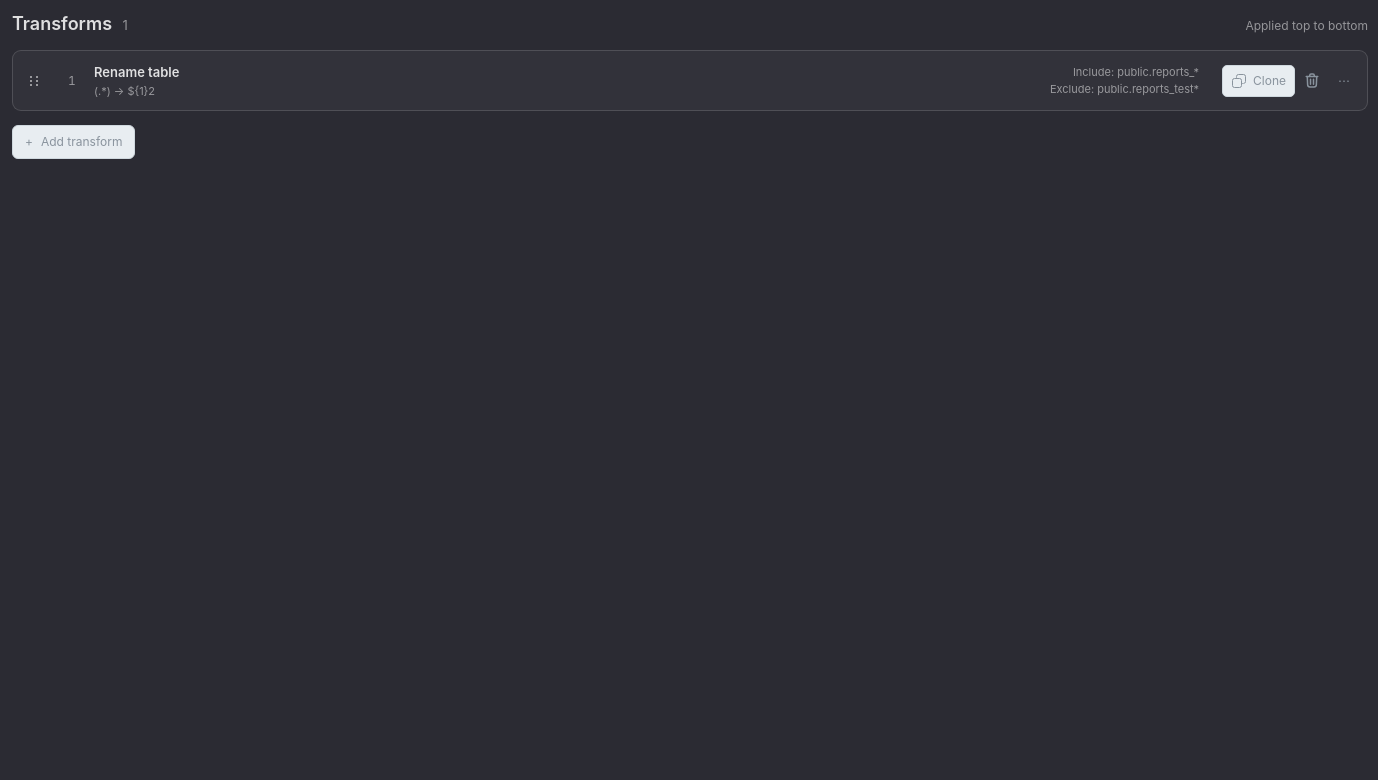
Test: ordered transform strips › persists the explicit rename target and disables readonly edits (true)
The image size is (1378, 780).
What coordinates should you click on to do the following:
click the button with aria-label "Expand transform 1"
I would click on:
 (137, 72)
Its box is [53,51,1218,110].
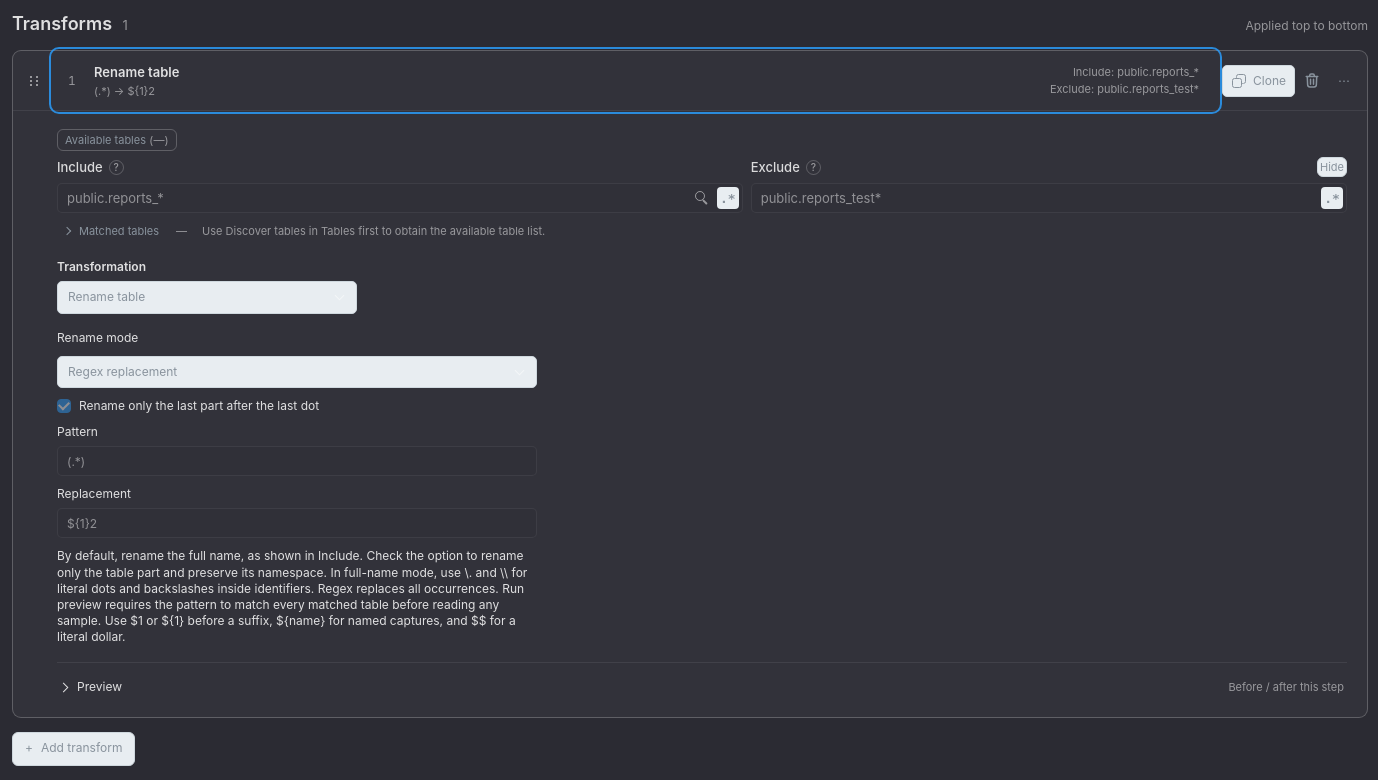
expect the checkbox labelled "Rename only the last part after the last dot" is checked: met, box [57,399,71,413]
expect the checkbox labelled "Rename only the last part after the last dot" is disabled: met, box [57,399,71,413]
